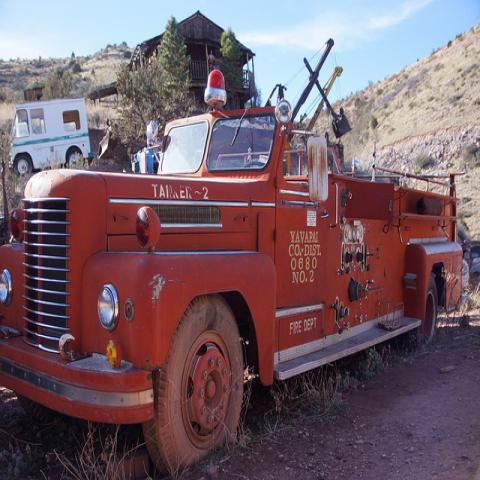truck: (0, 67, 469, 477), (12, 96, 95, 173)
